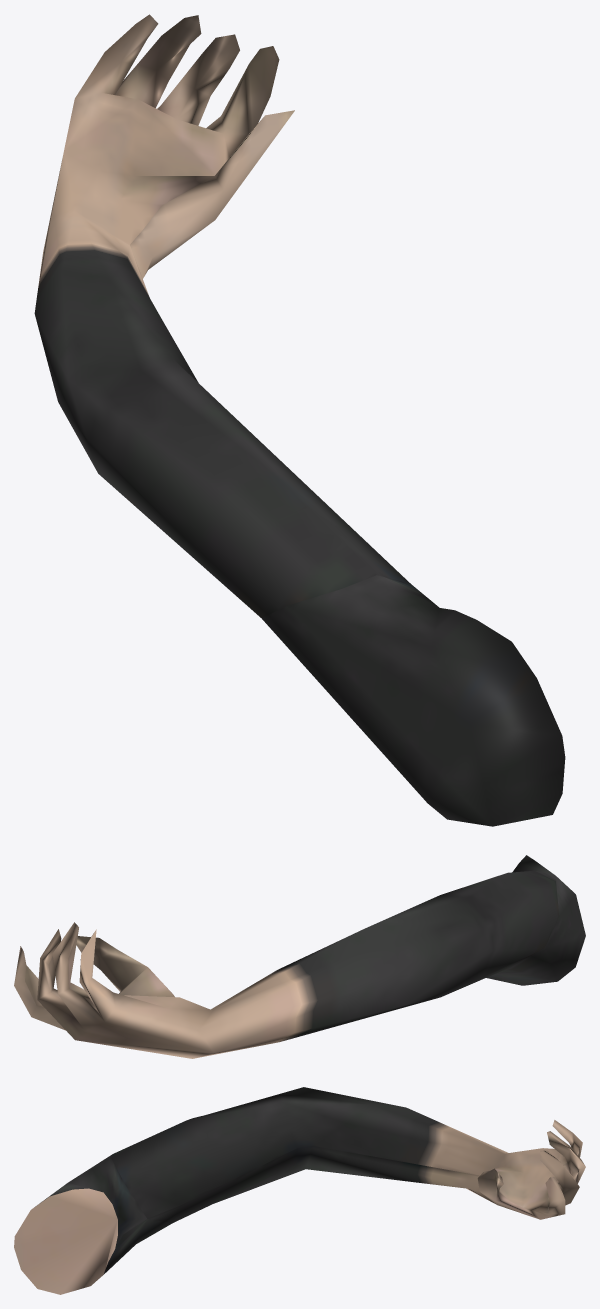
The model's file is dest_nt_nuked_female_01_arm_right_LOD2.obj.
3 renders of one model, top to bottom at view 1: azimuth 30°, elevation 25°; view 2: azimuth 150°, elevation 25°; view 3: azimuth 270°, elevation 25°, orthographic. The views are drawn at different scales.
Visible parts, largest first — view 1: mtl_nt_2020_manne_fem01_head1; view 2: mtl_nt_2020_manne_fem01_head1; view 3: mtl_nt_2020_manne_fem01_head1.
Boxes of the visible parts, bbox=[...] form: mtl_nt_2020_manne_fem01_head1: bbox=[34, 14, 565, 826]; mtl_nt_2020_manne_fem01_head1: bbox=[14, 855, 585, 1058]; mtl_nt_2020_manne_fem01_head1: bbox=[14, 1087, 585, 1294].
Bounding box in the file's own units: 26.79 × 23.22 × 58.94.
